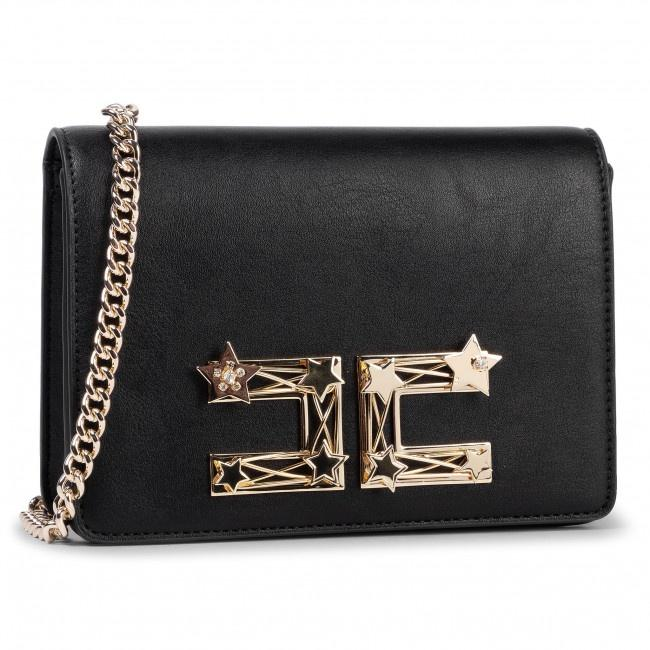ELISABETTA-FRANCHI: (193, 331, 516, 515)
